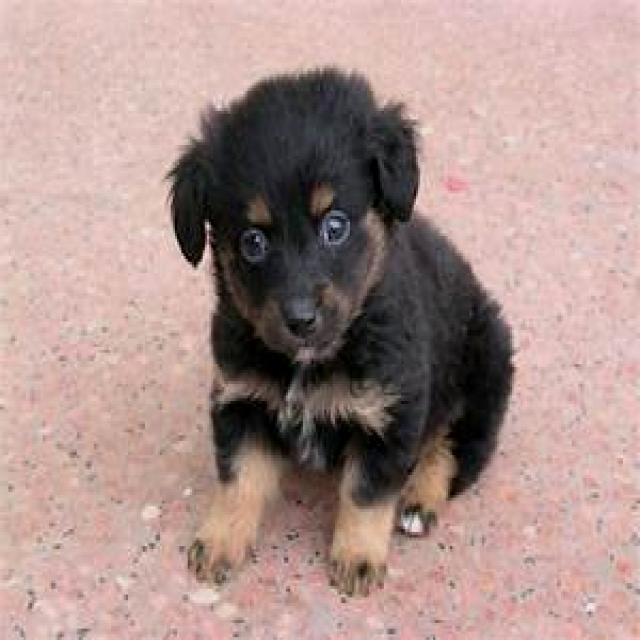KOPEK: (164, 66, 534, 584)
